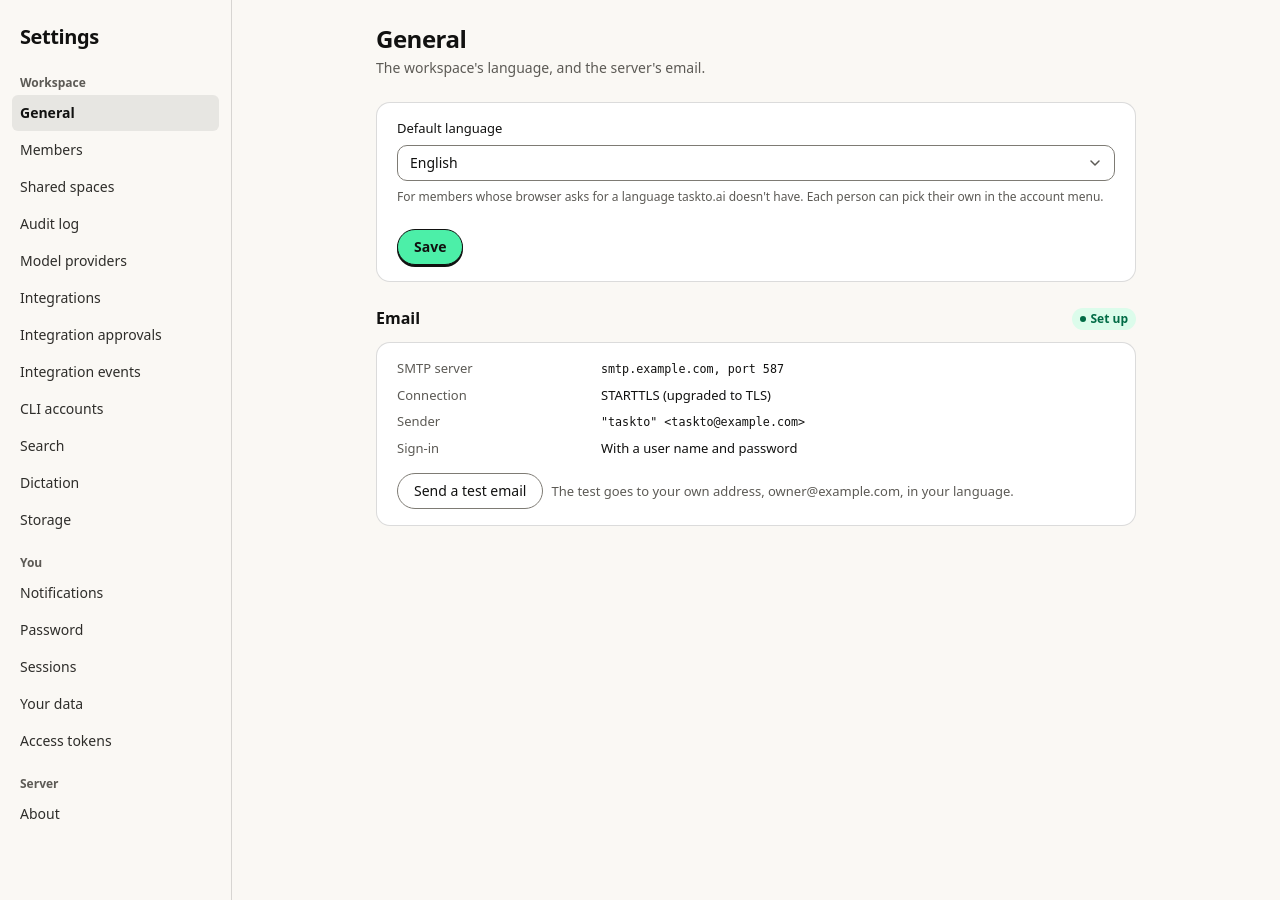
it: admins see where the server sends email through, and send a test to their own address
Check: the text "smtp.example.com, port 587" is shown, box 601,362 -> 784,376
Check: the text "STARTTLS (upgraded to TLS)" is shown, box 601,386 -> 771,404
Click the button "Send a test email": (470, 491) 397,473 -> 543,509
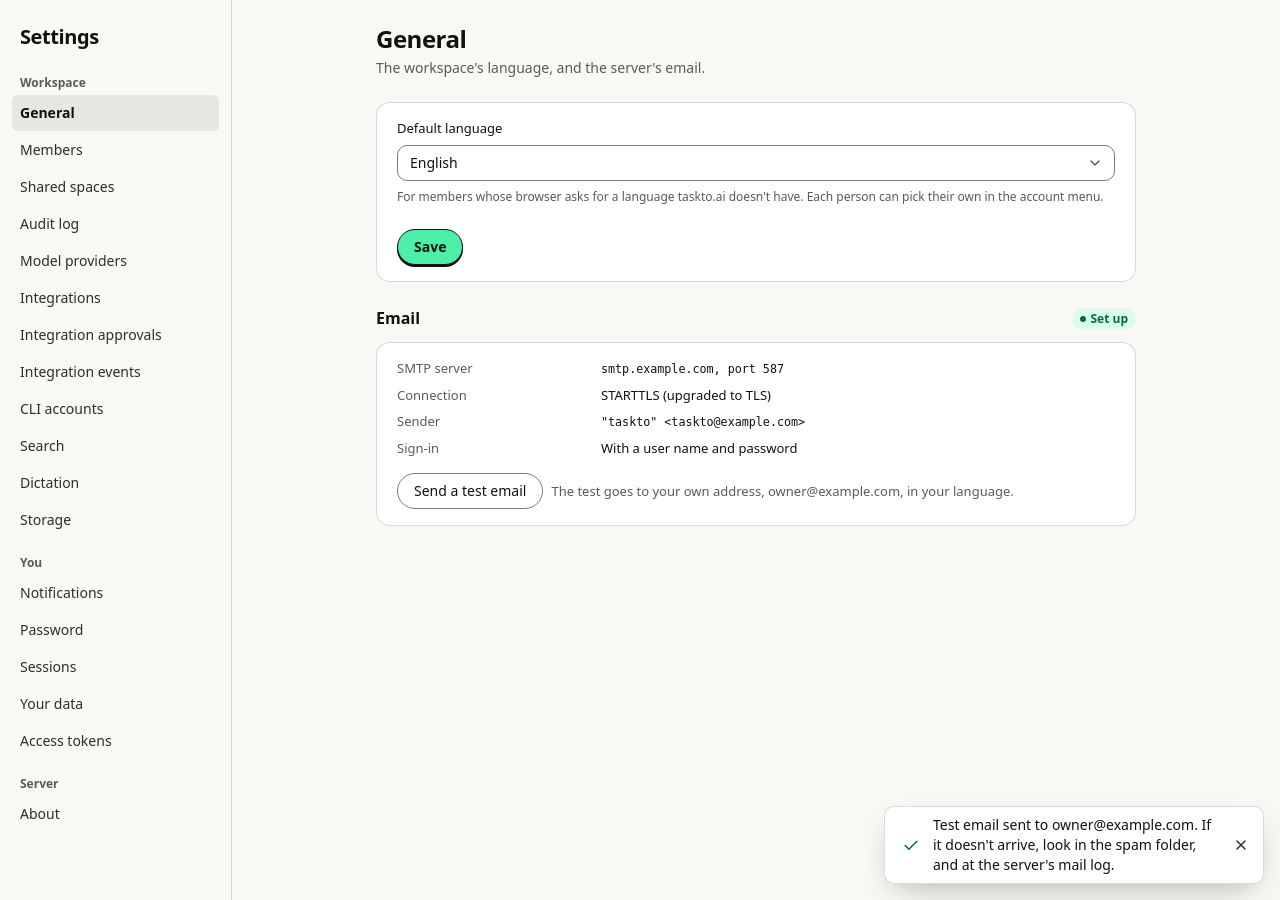
Check: the text "Test email sent to owner@example.com" is shown, box 933,815 -> 1211,874
